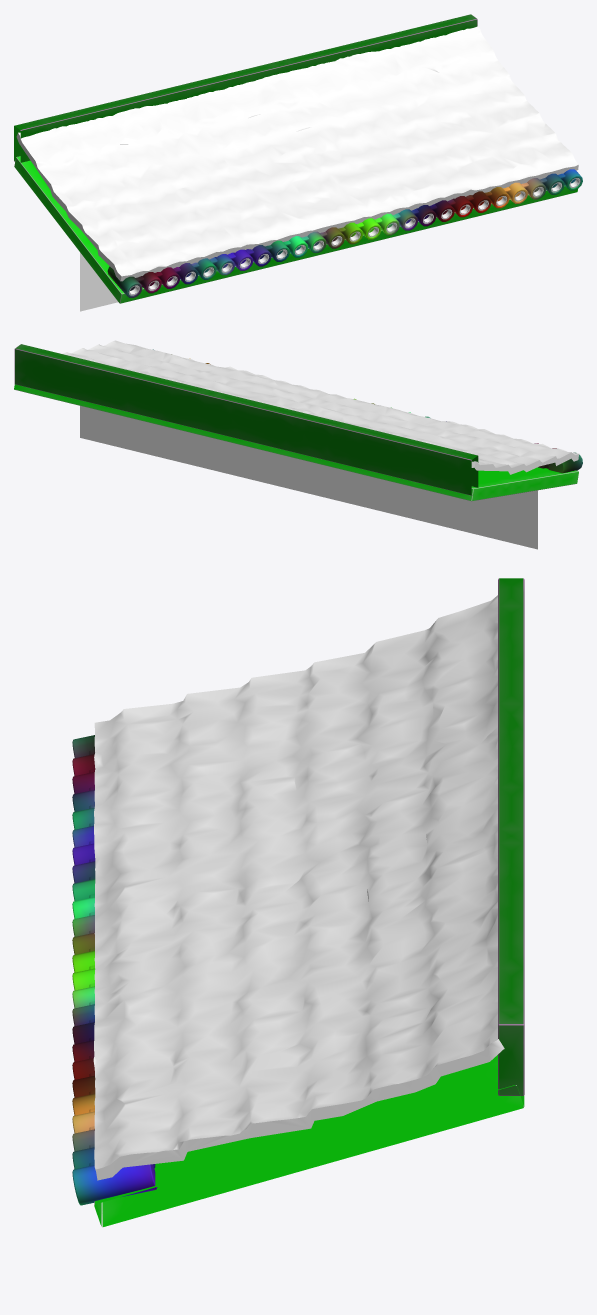
Rendered from wall_roof_fenced_400_01.fbx.
3 views of the same model, one above another, from view 1: azimuth 30°, elevation 25°; view 2: azimuth 150°, elevation 25°; view 3: azimuth 270°, elevation 25° (orthographic). The views are drawn at different scales.
Parts seen in each view (by area): view 1: wall_roof_fenced_400_01; view 2: wall_roof_fenced_400_01; view 3: wall_roof_fenced_400_01.
Boxes of the visible parts, x1,y1,x2,y2 form: wall_roof_fenced_400_01: (14,14,582,311); wall_roof_fenced_400_01: (14,340,582,549); wall_roof_fenced_400_01: (72,578,524,1227).
Size of the model in its own units: 4 by 1.15 by 1.71.
